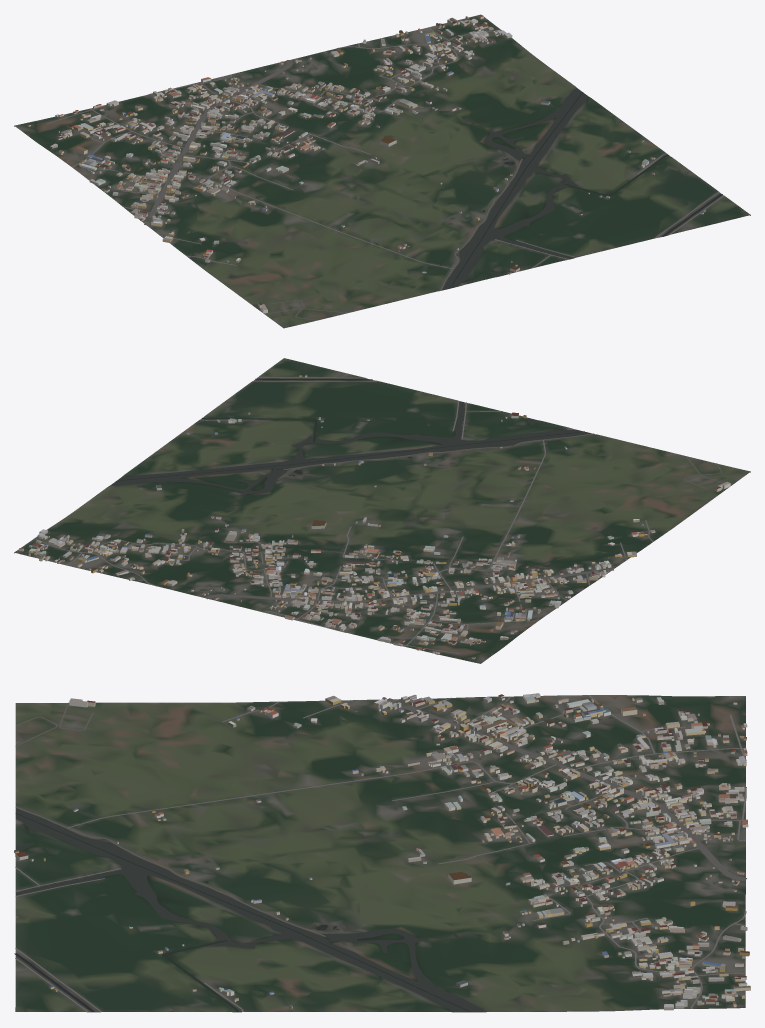
3 views of the same model, one above another, from view 1: azimuth 30°, elevation 25°; view 2: azimuth 150°, elevation 25°; view 3: azimuth 270°, elevation 25° (orthographic). The views are drawn at different scales.
Visible parts, largest first — view 1: ground, buildings, water, roads; view 2: ground, buildings, water, roads; view 3: ground, buildings, water, roads.
Part boxes in pixels (x1,y1,x2,y2): ground: (14, 14, 750, 328); buildings: (27, 15, 705, 313); water: (442, 88, 722, 289); roads: (47, 27, 724, 320); ground: (14, 358, 750, 663); buildings: (19, 374, 730, 659); water: (111, 378, 591, 495); roads: (34, 377, 731, 653); ground: (15, 695, 745, 1012); buildings: (14, 693, 750, 1010); water: (14, 808, 485, 1012); roads: (15, 695, 746, 1011).
Bounding box in the file's own units: 1414 × 29.17 × 1414.
